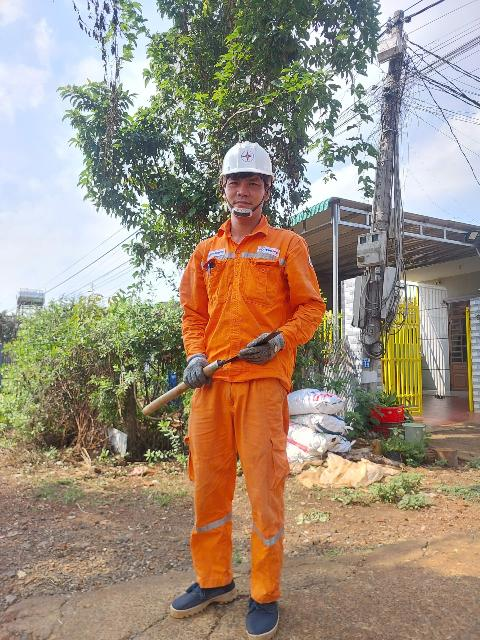gloves: (172, 350, 221, 389), (239, 332, 284, 366)
helmet: (216, 135, 284, 195)
shoes: (155, 566, 243, 623), (233, 587, 290, 640)
